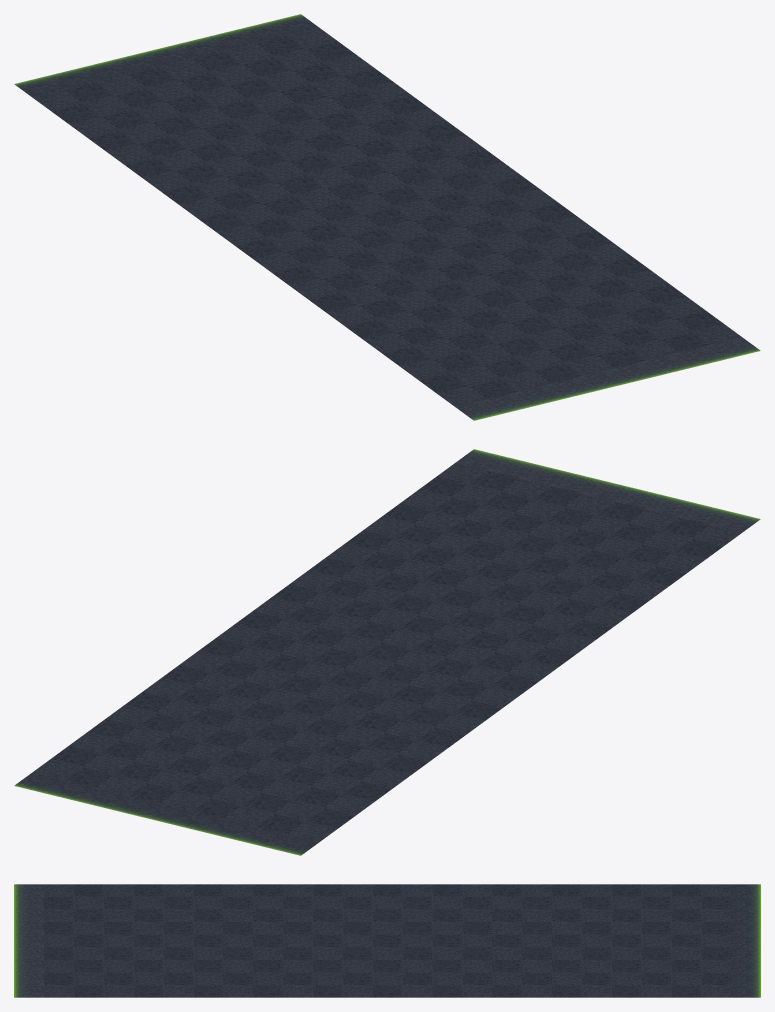
File: floor.glb
The picture shows the model from 3 angles, top to bottom: view 1: azimuth 30°, elevation 25°; view 2: azimuth 150°, elevation 25°; view 3: azimuth 270°, elevation 25°; orthographic projection. The views are drawn at different scales.
Visible parts, largest first — view 1: geometry_0; view 2: geometry_0; view 3: geometry_0.
Boxes of the visible parts, <box> form: geometry_0: <box>14,14,760,420</box>; geometry_0: <box>14,449,760,855</box>; geometry_0: <box>14,884,760,997</box>.
Bounding box in the file's own units: 36 × 0 × 100.
Materials: 1 (1 with a texture image).
